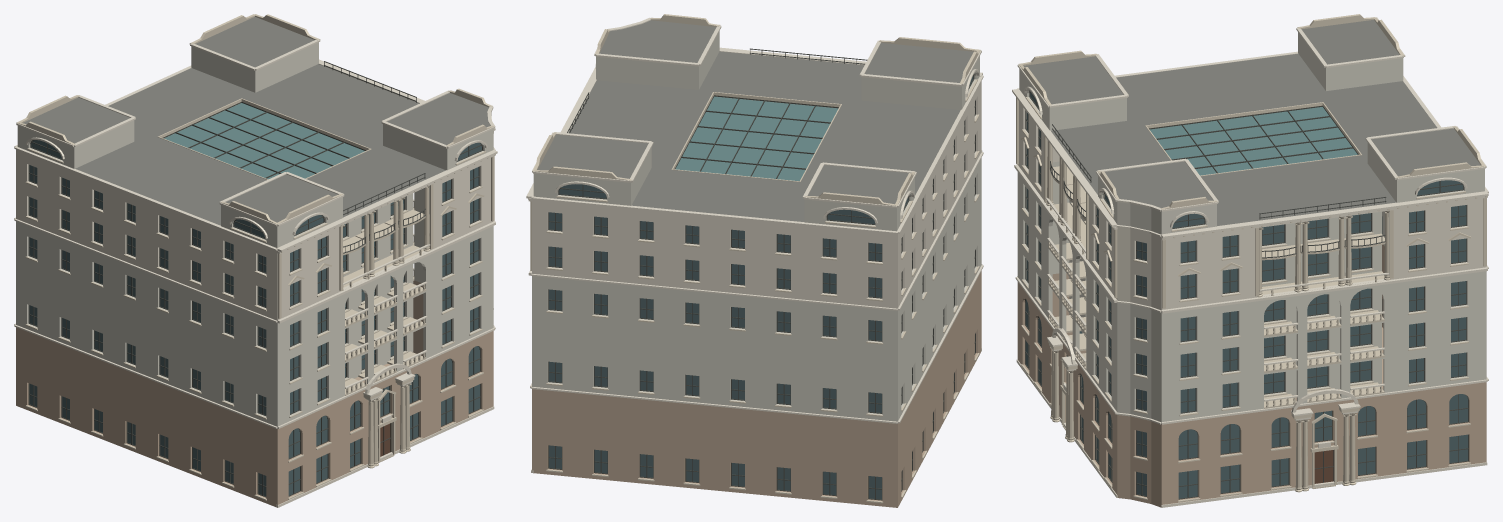
Rendered from huangpu-asia-building-lod.glb.
3 views of the same model, side by side, from view 1: azimuth 30°, elevation 25°; view 2: azimuth 150°, elevation 25°; view 3: azimuth 270°, elevation 25° (orthographic). The views are drawn at different scales.
Visible parts, largest first — view 1: 亚细亚大楼（外滩1号双街立面与东南转角）; view 2: 亚细亚大楼（外滩1号双街立面与东南转角）; view 3: 亚细亚大楼（外滩1号双街立面与东南转角）.
Boxes of the visible parts, bbox=[...] form: 亚细亚大楼（外滩1号双街立面与东南转角）: bbox=[14, 14, 497, 507]; 亚细亚大楼（外滩1号双街立面与东南转角）: bbox=[526, 14, 983, 507]; 亚细亚大楼（外滩1号双街立面与东南转角）: bbox=[1012, 14, 1488, 507].
Size of the model in its own units: 48.16 by 34.93 by 49.58.
